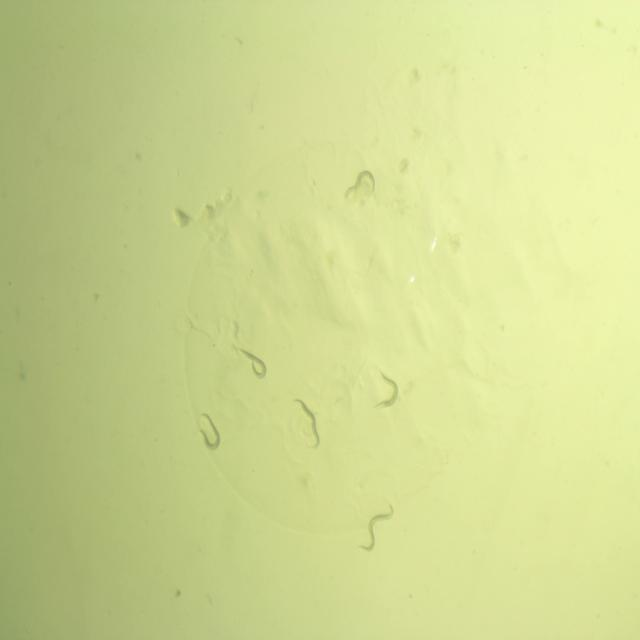worm: (353, 499, 395, 556), (291, 395, 323, 452), (338, 166, 379, 207), (236, 341, 272, 386), (371, 367, 403, 414), (196, 406, 225, 454)
